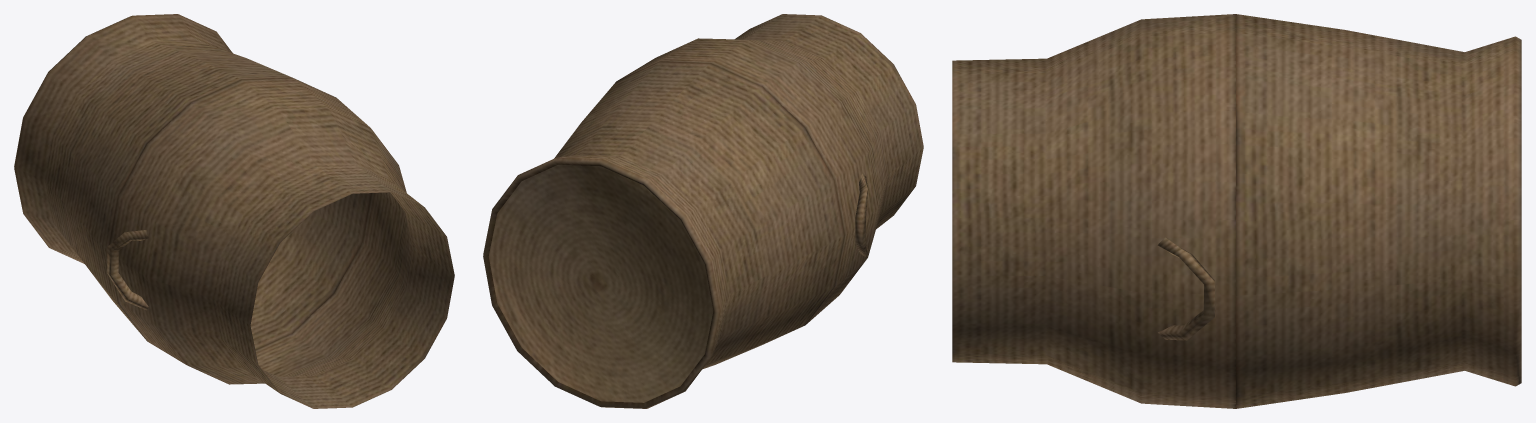
The model's file is prop_wickerbasket2.glb.
3 views of the same model, side by side, from view 1: azimuth 30°, elevation 25°; view 2: azimuth 150°, elevation 25°; view 3: azimuth 270°, elevation 25° (orthographic). The views are drawn at different scales.
Size of the model in its own units: 35.54 by 33.29 by 47.94.
1 material, 1 textured.
